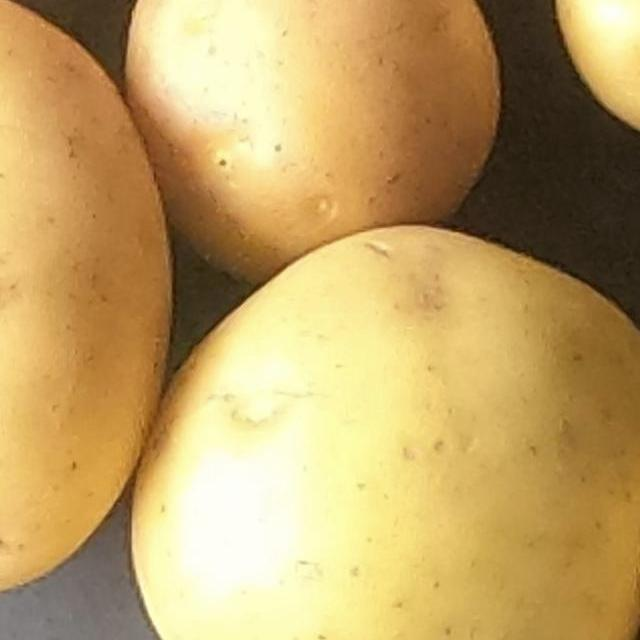potato: (97, 196, 640, 640), (0, 0, 203, 640), (112, 0, 535, 294)
